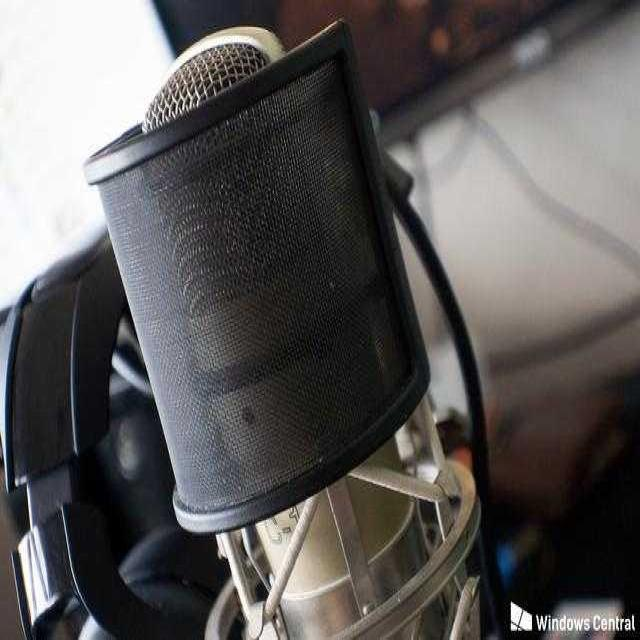microphone: (85, 15, 450, 640)
